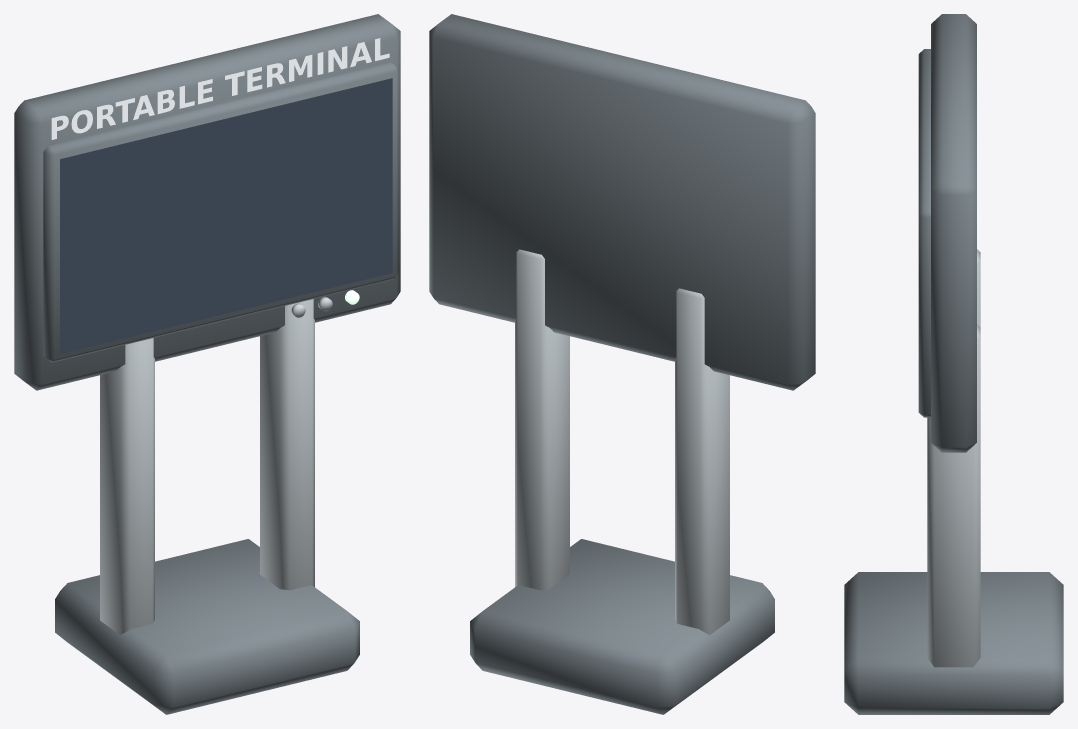
File: portable_terminal_standard.glb
The picture shows the model from 3 angles, left to right: view 1: azimuth 30°, elevation 25°; view 2: azimuth 150°, elevation 25°; view 3: azimuth 270°, elevation 25°; orthographic projection. The views are drawn at different scales.
Visible parts, largest first — view 1: LiveViewSurface_glass, Base_frame, DisplayHousing_frame, Support_steel, LiveViewSurfaceFrame_frame, TypeLabel_white; view 2: DisplayHousing_frame, Support_steel, Base_frame; view 3: Base_frame, DisplayHousing_frame, Support_steel, LiveViewSurfaceFrame_frame.
Part boxes in pixels (bbox=[...]): LiveViewSurface_glass: bbox=[60, 78, 392, 353]; Base_frame: bbox=[55, 539, 359, 714]; DisplayHousing_frame: bbox=[14, 14, 400, 390]; Support_steel: bbox=[100, 299, 314, 635]; LiveViewSurfaceFrame_frame: bbox=[43, 62, 398, 362]; TypeLabel_white: bbox=[51, 38, 389, 139]; DisplayHousing_frame: bbox=[429, 14, 815, 390]; Support_steel: bbox=[515, 249, 729, 635]; Base_frame: bbox=[470, 539, 774, 714]; Base_frame: bbox=[844, 572, 1063, 714]; DisplayHousing_frame: bbox=[931, 14, 976, 452]; Support_steel: bbox=[927, 249, 980, 667]; LiveViewSurfaceFrame_frame: bbox=[918, 49, 930, 417].
Size of the model in its own units: 1.18 by 1.79 by 0.62.
